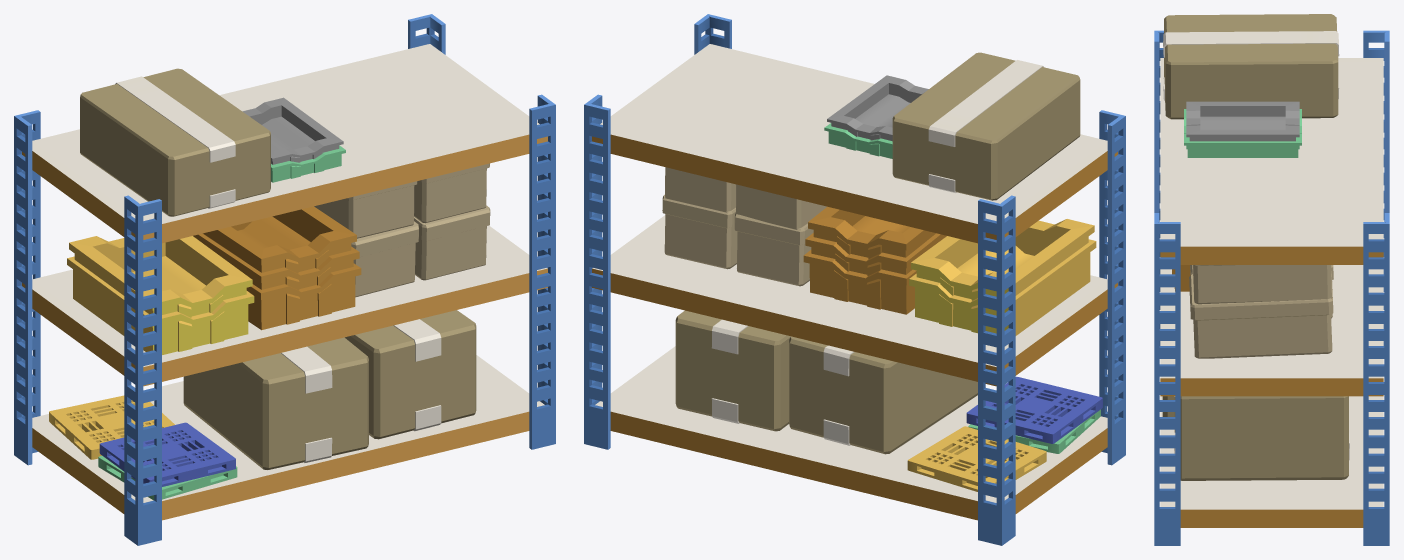
Rendered from Factory_shelf_01.FBX.
3 views of the same model, side by side, from view 1: azimuth 30°, elevation 25°; view 2: azimuth 150°, elevation 25°; view 3: azimuth 270°, elevation 25° (orthographic). The views are drawn at different scales.
Visible parts, largest first — view 1: Plane027; view 2: Plane027; view 3: Plane027.
Part boxes in pixels (x1,y1,x2,y2): Plane027: [14, 14, 555, 545]; Plane027: [584, 14, 1125, 545]; Plane027: [1154, 14, 1389, 545].
Size of the model in its own units: 68.55 by 35.21 by 58.79.
